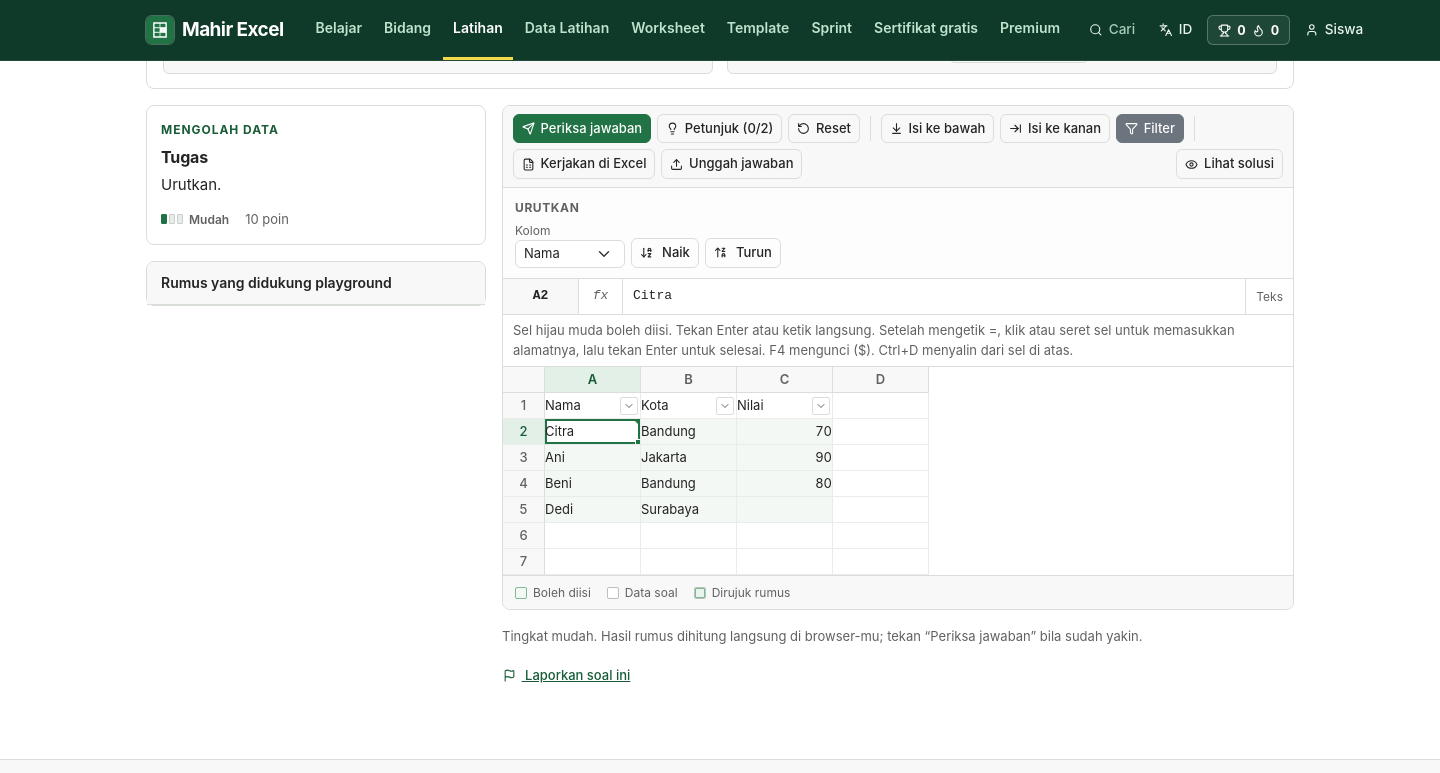
Test case: alat Urutkan dan Filter (panah di judul kolom) › panah filter di judul kolom membuka daftar centang; OK menyembunyikan baris, melaporkan jumlah, dan dapat dihapus
(page scrolled)
Expected: the element named "Alat data: urutkan" is shown, [503,188,1293,279]
Click the button named "Filter kolom Kota" at (725, 406), box [716,397,734,415]
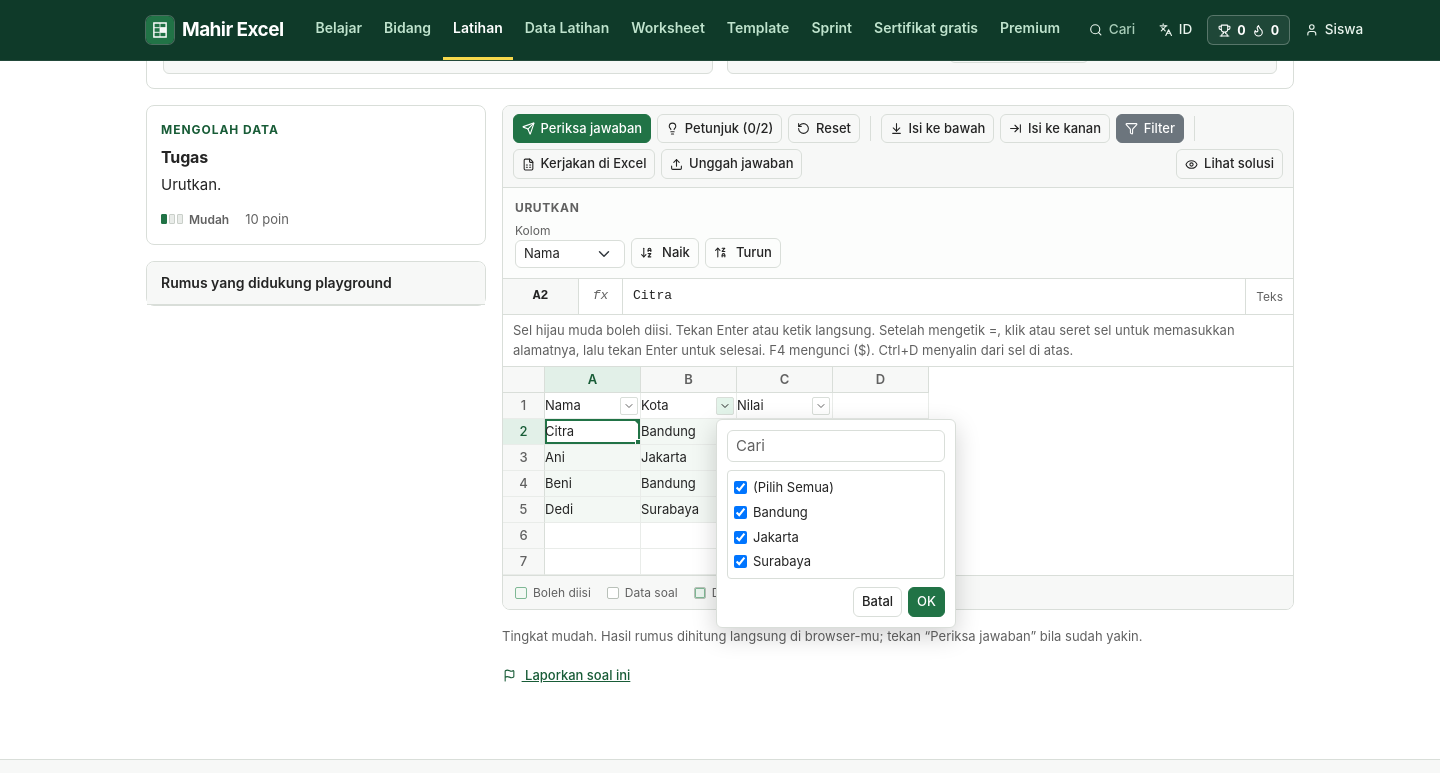
Click the checkbox labelled "(Pilih Semua)" at (740, 488), box [734,481,747,494]
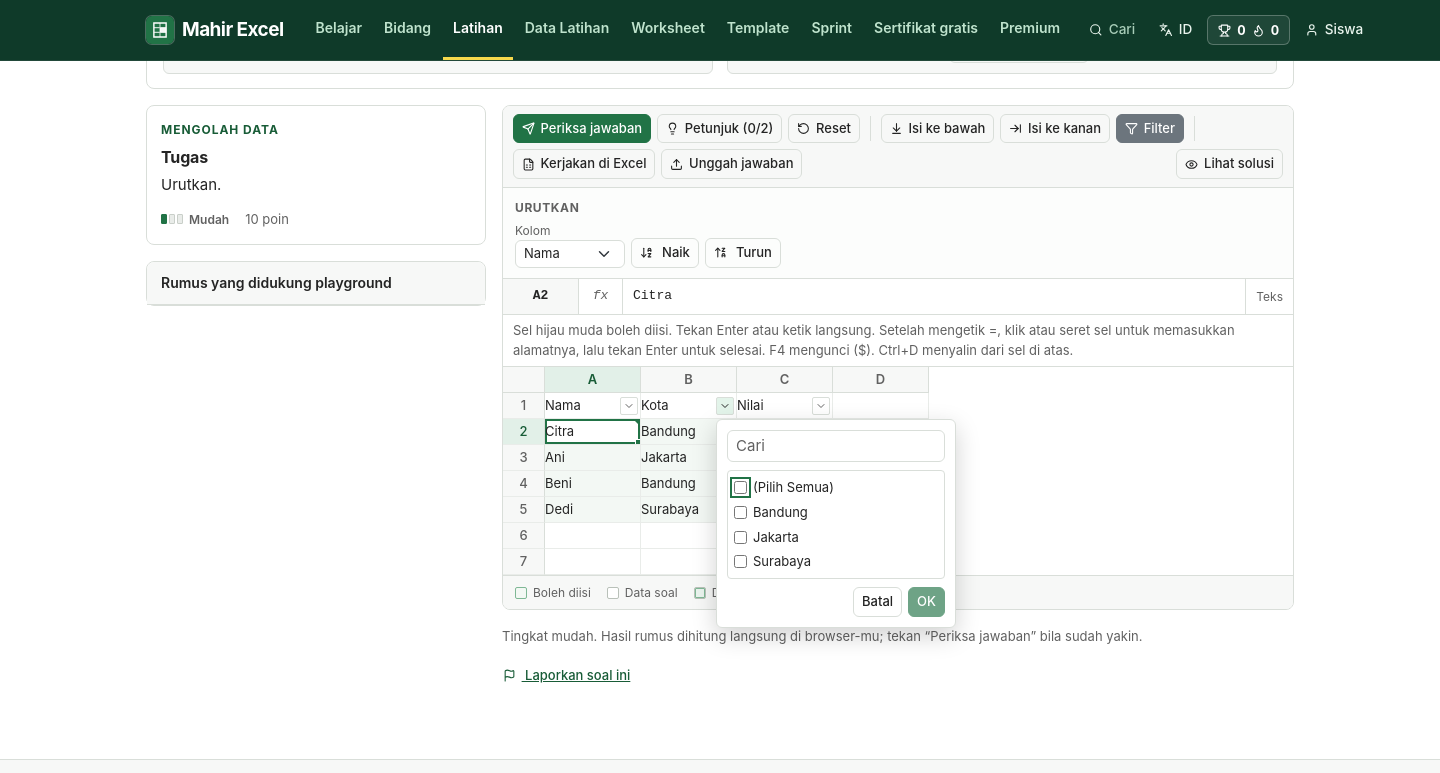
Click the checkbox labelled "Bandung" at (740, 512), box [734,506,747,519]
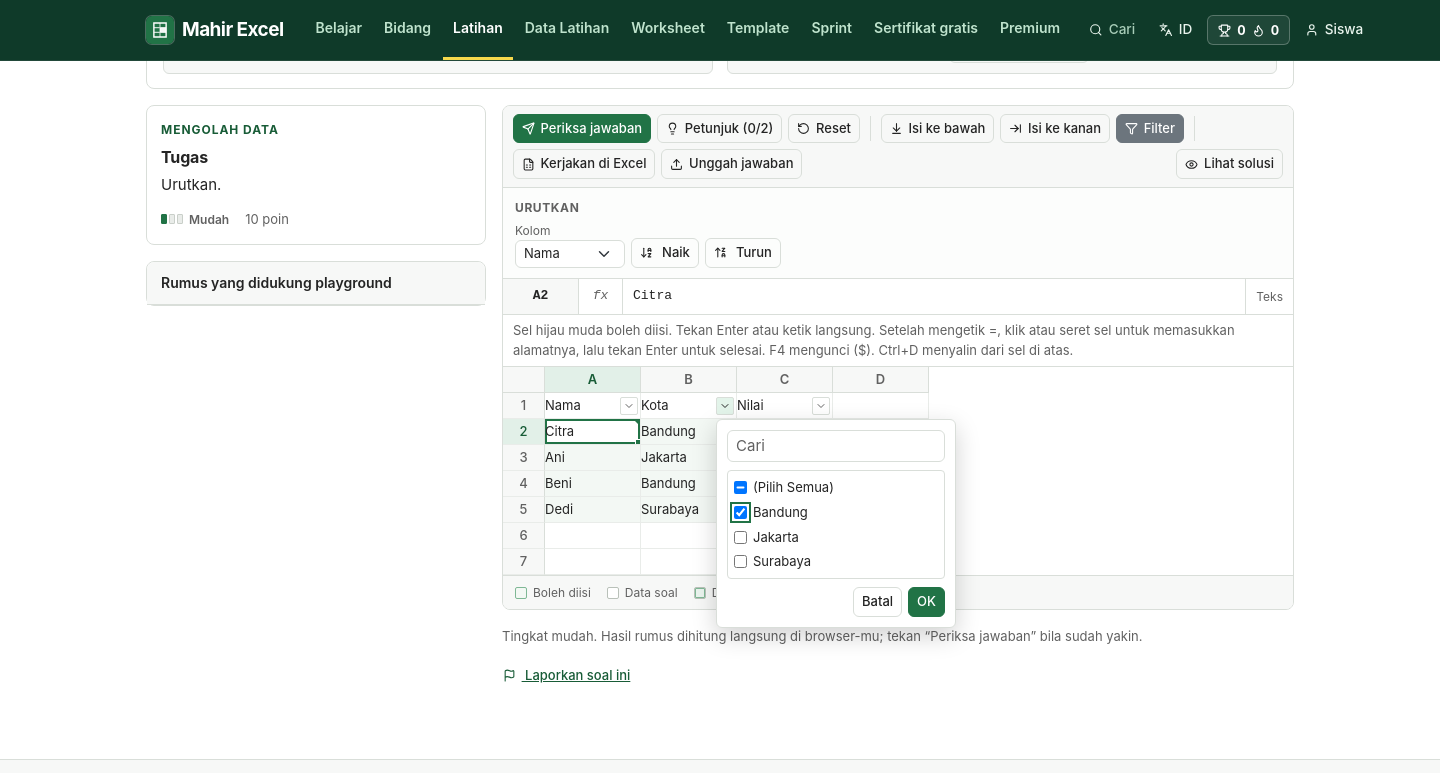
Click the button "OK" at (927, 602), box [908,587,945,617]
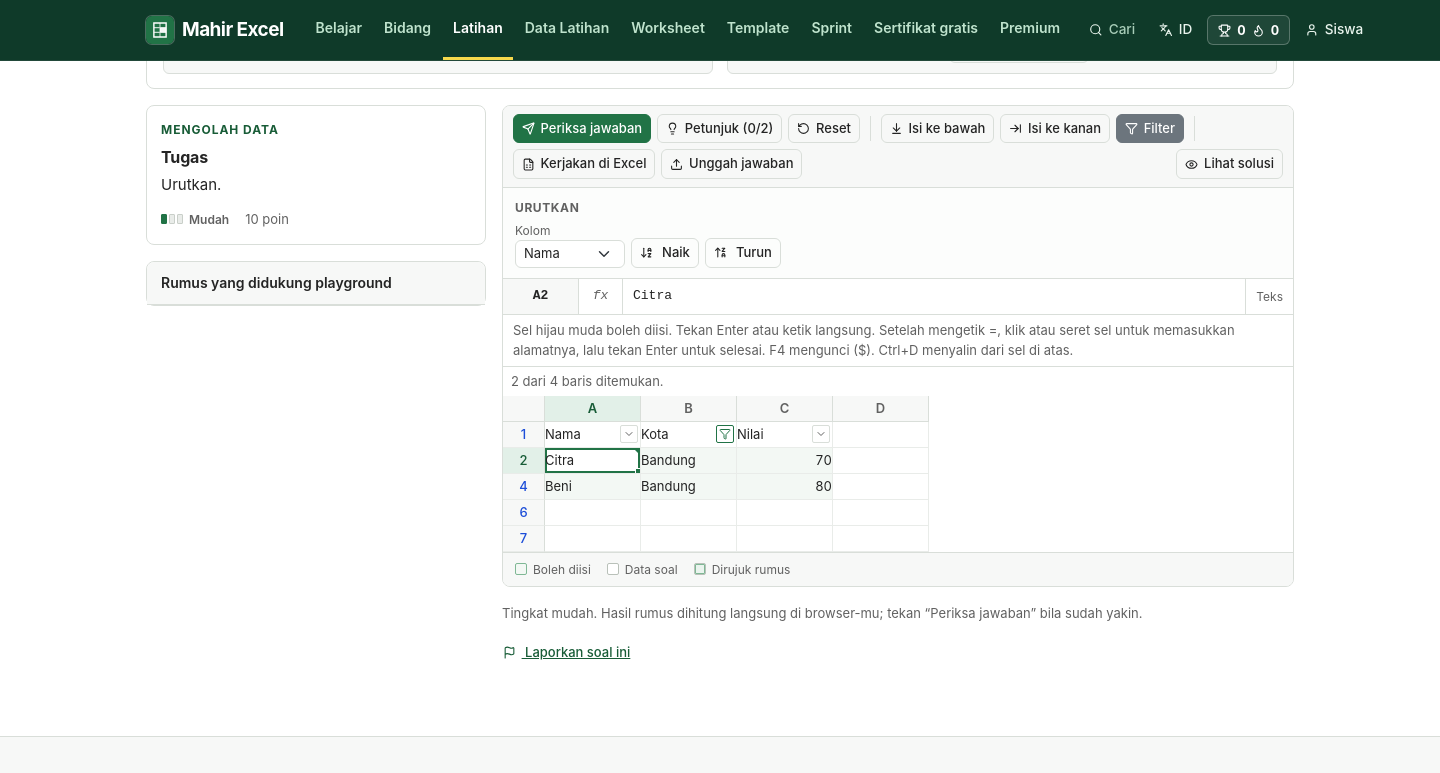
Expected: the cell named "A2: Citra" is shown, [545,448,641,474]
Now the text "2 dari 4 baris ditemukan." is shown, box [511,373,664,389]
Click the button named "Filter kolom Kota (aktif)" at (725, 434), box [716,425,734,443]
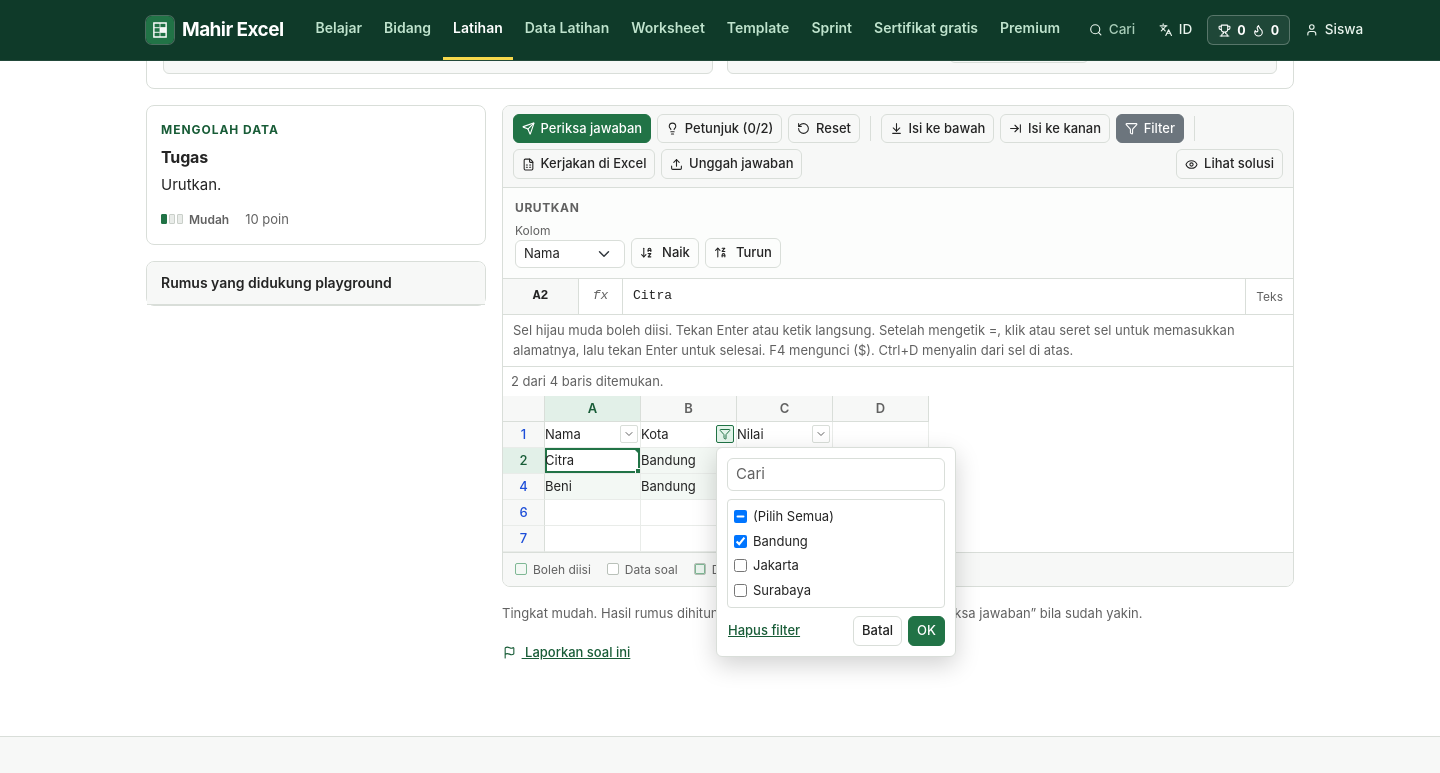
Click the button "Hapus filter" at (764, 631), box [727,620,801,642]
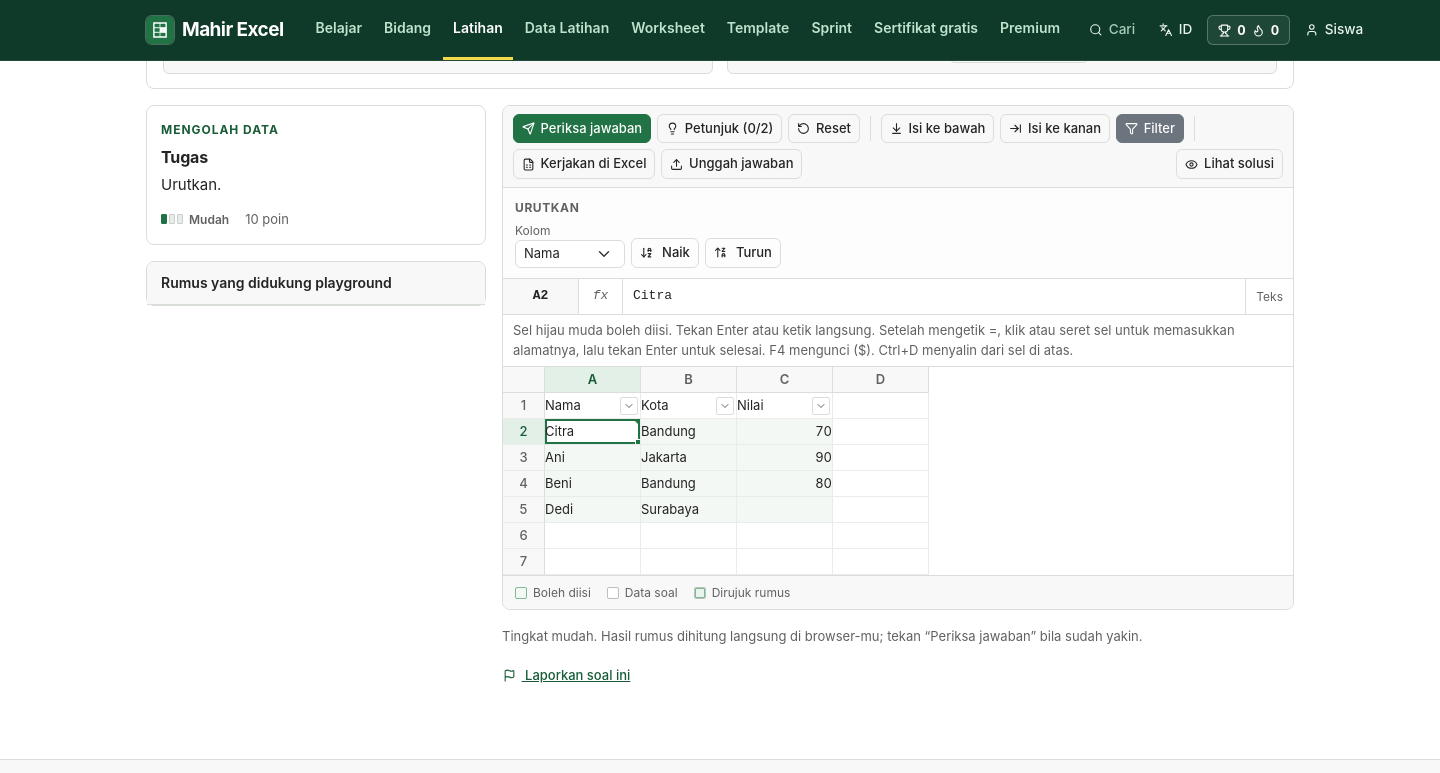
Now the cell named "A3: Ani" is shown, box [545,445,641,471]
Now the text "baris ditemukan" is gone
